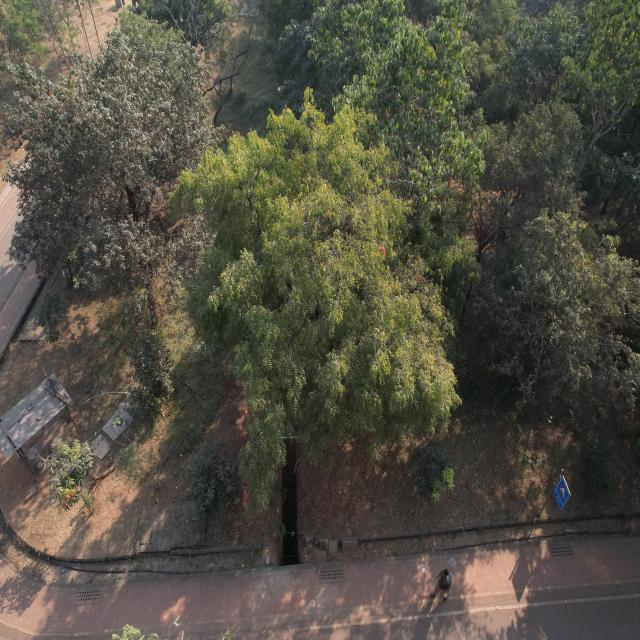Neem-Tree: (193, 148, 435, 444)
